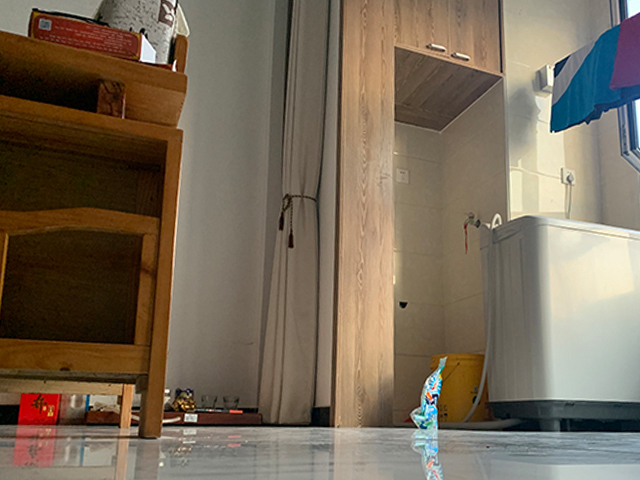curtain: (258, 1, 332, 427)
sofa: (1, 27, 190, 440)
